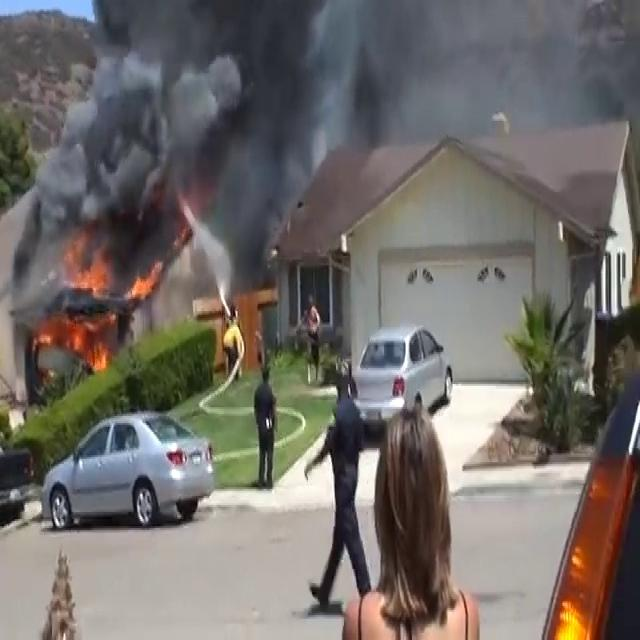Fire: (33, 234, 113, 378)
Smoke: (39, 1, 378, 232), (390, 0, 616, 226)
